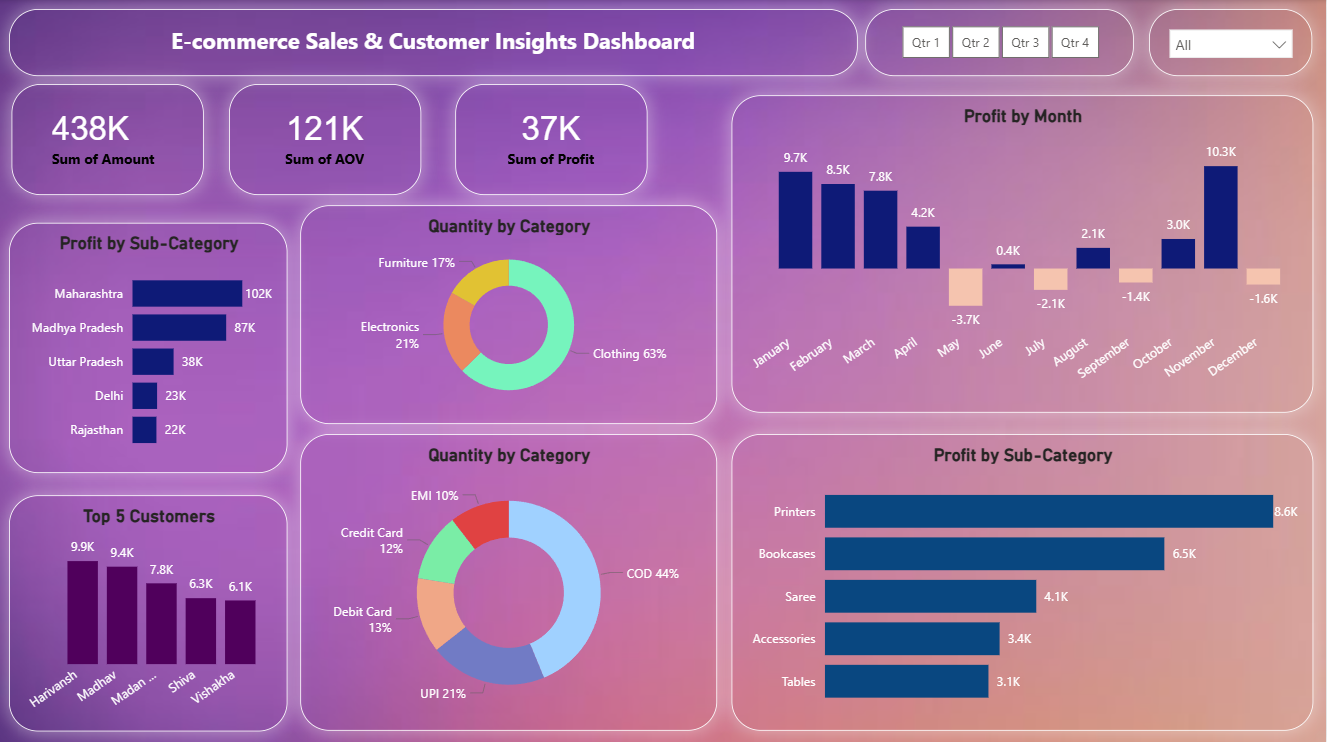

What the dashboard file says about the page in this screenshot:
{"tool":"powerbi","page":{"name":"Page 1","canvas":[1280,720],"ordinal":0},"visuals":[{"type":"textbox","box":[9.6,9.6,819.2,64.5],"z":0},{"type":"columnChart","title":"Profit by Month","fields":{"Y":["Sum(Details.Profit)"],"Category":["Orders.Order Date.Variation.Date Hierarchy.Month"]},"box":[706.7,93.3,561.2,306],"z":1000},{"type":"clusteredBarChart","title":"Profit by Sub-Category","fields":{"Category":["Details.Sub-Category"],"Y":["Sum(Details.Profit)"]},"box":[706.7,419.9,561.2,286.8],"z":2000},{"type":"donutChart","title":"Quantity by Category","fields":{"Category":["Details.Category"],"Y":["Sum(Details.Quantity)"]},"box":[290.9,199,402.1,211.3],"z":3000},{"type":"donutChart","title":"Quantity by Category","fields":{"Y":["Sum(Details.Quantity)"],"Category":["Details.PaymentMode"]},"box":[290.9,419.9,402.1,286.8],"z":4000},{"type":"cardVisual","fields":{"Data":["Sum(Details.Amount)"]},"box":[12.1,82.3,185.2,107],"z":5000},{"type":"cardVisual","fields":{"Data":["Sum(Details.Profit)"]},"box":[440.2,82.3,185.2,107],"z":6000},{"type":"cardVisual","fields":{"Data":["Sum(Details.AOV)"]},"box":[222,82.3,185.2,107],"z":7000},{"type":"clusteredBarChart","title":"Profit by Sub-Category","fields":{"Category":["Orders.State"],"Y":["Sum(Details.Amount)"]},"box":[9.6,215.4,269,241.5],"z":8000},{"type":"columnChart","title":"Top 5 Customers","fields":{"Category":["Orders.CustomerName"],"Y":["Sum(Details.Amount)"]},"box":[9.6,478.9,269,227.8],"z":9000},{"type":"slicer","fields":{"Values":["Orders.Order Date.Variation.Date Hierarchy.Quarter"]},"box":[835.7,9.6,259.3,64.5],"z":10000},{"type":"slicer","fields":{"Values":["Orders.State"]},"box":[1110.1,9.6,157.8,64.5],"z":11000}]}

Visuals, with their boxes in screenshot pixels (x1, y1, x2, y2), scaled from the page's 1280x720 canvas onto the 1327x742 screenshot:
textbox: (x1=10, y1=10, x2=859, y2=76)
"Profit by Month" columnChart: (x1=733, y1=96, x2=1314, y2=412)
"Profit by Sub-Category" clusteredBarChart: (x1=733, y1=433, x2=1314, y2=728)
"Quantity by Category" donutChart: (x1=302, y1=205, x2=718, y2=423)
"Quantity by Category" donutChart: (x1=302, y1=433, x2=718, y2=728)
cardVisual - Sum(Details.Amount): (x1=13, y1=85, x2=205, y2=195)
cardVisual - Sum(Details.Profit): (x1=456, y1=85, x2=648, y2=195)
cardVisual - Sum(Details.AOV): (x1=230, y1=85, x2=422, y2=195)
"Profit by Sub-Category" clusteredBarChart: (x1=10, y1=222, x2=289, y2=471)
"Top 5 Customers" columnChart: (x1=10, y1=494, x2=289, y2=728)
slicer - Orders.Order Date.Variation.Date Hierarchy.Quarter: (x1=866, y1=10, x2=1135, y2=76)
slicer - Orders.State: (x1=1151, y1=10, x2=1314, y2=76)
